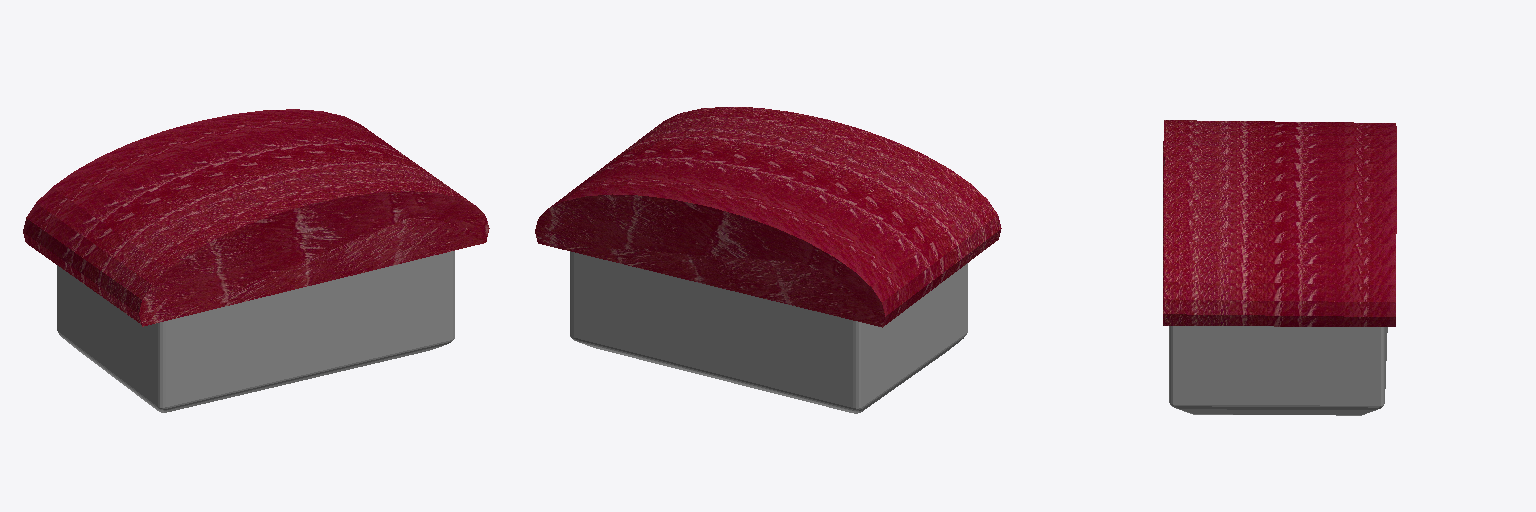
3 views of the same model, side by side, from view 1: azimuth 30°, elevation 25°; view 2: azimuth 150°, elevation 25°; view 3: azimuth 270°, elevation 25° (orthographic).
Visible parts, largest first — view 1: Cylinder, Cube.001; view 2: Cylinder, Cube.001; view 3: Cylinder, Cube.001.
Boxes of the visible parts, <box> form: Cylinder: <box>23,109,489,326</box>; Cube.001: <box>57,251,454,412</box>; Cylinder: <box>535,107,1001,327</box>; Cube.001: <box>570,251,967,413</box>; Cylinder: <box>1163,120,1396,326</box>; Cube.001: <box>1169,326,1387,415</box>.
Bounding box in the file's own units: 0.4243 × 0.2191 × 0.2447.
Materials: 2 (1 with a texture image).